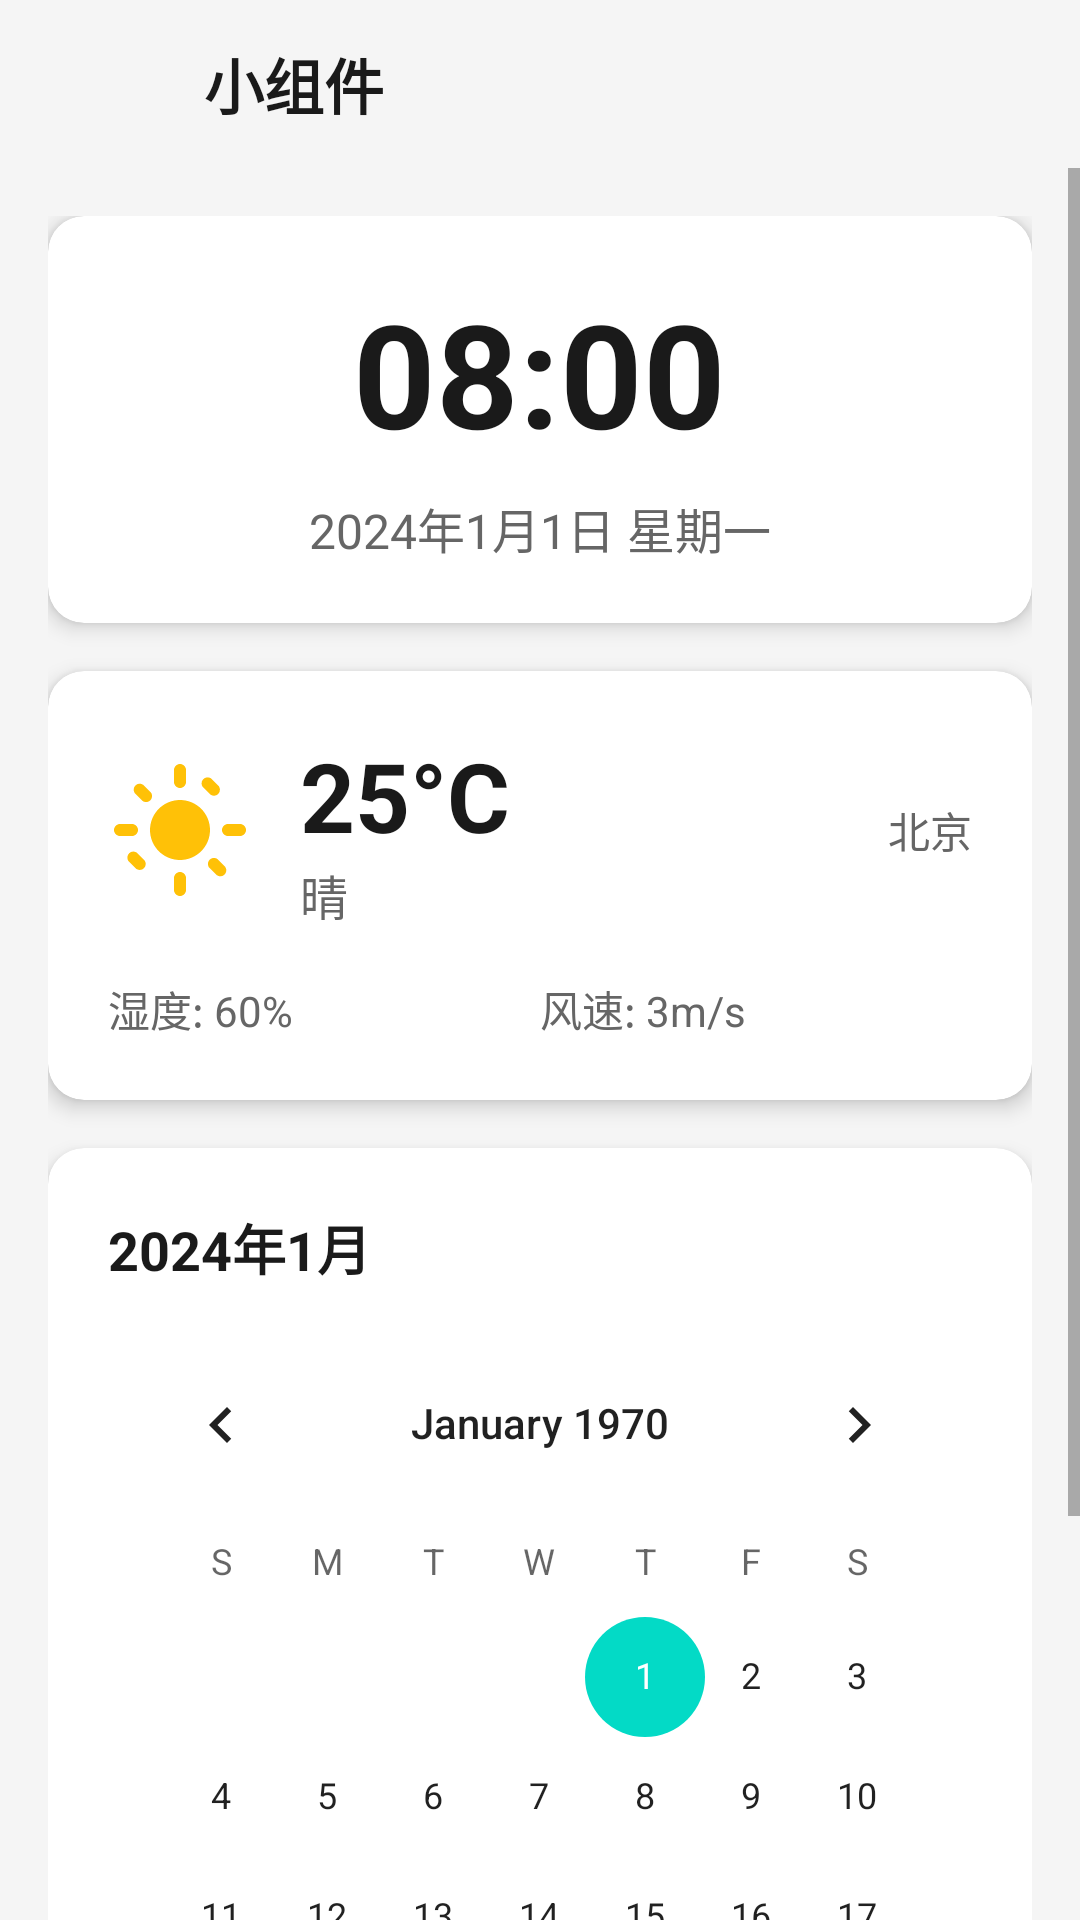

Icons on this 1080px x 1920px Android screen, each with the point to tap as [x,y]:
weather sunny: [180,830]
